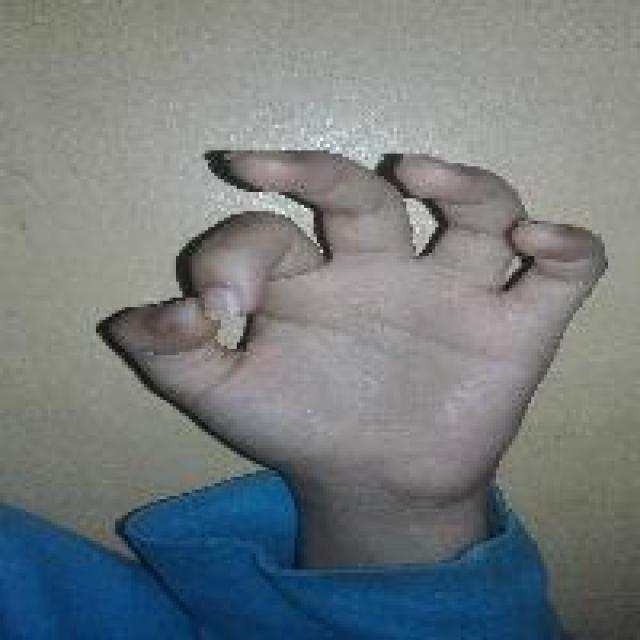F: (93, 142, 614, 501)
